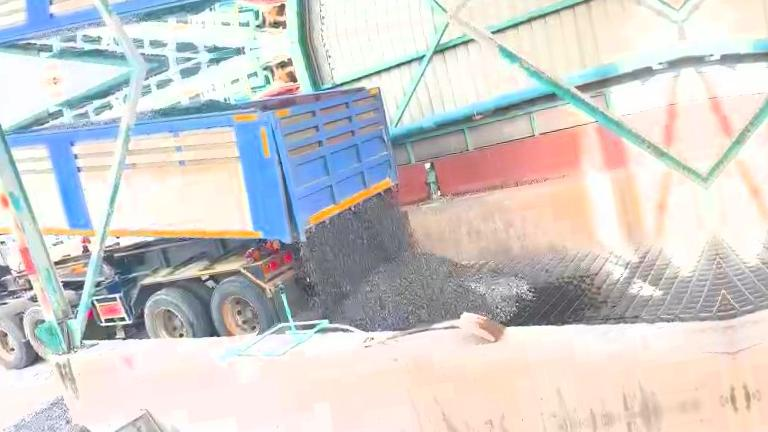gravel: (297, 192, 533, 330), (0, 397, 83, 432), (137, 99, 240, 122), (9, 117, 120, 133)
